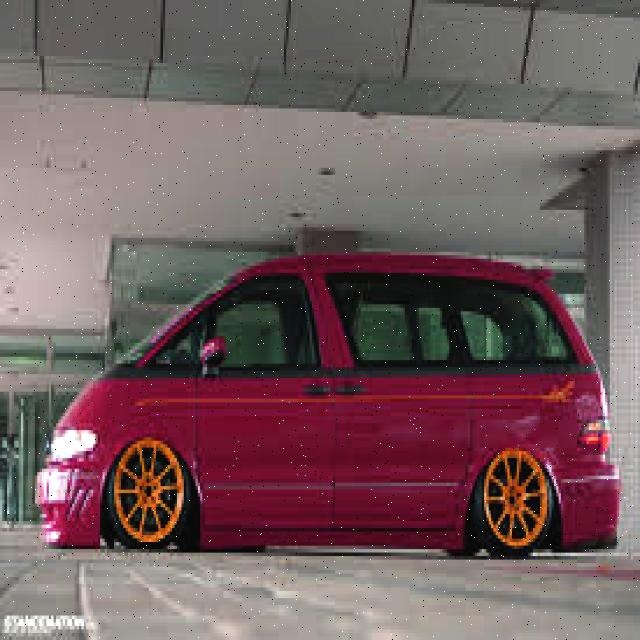Van: (51, 252, 610, 560)
